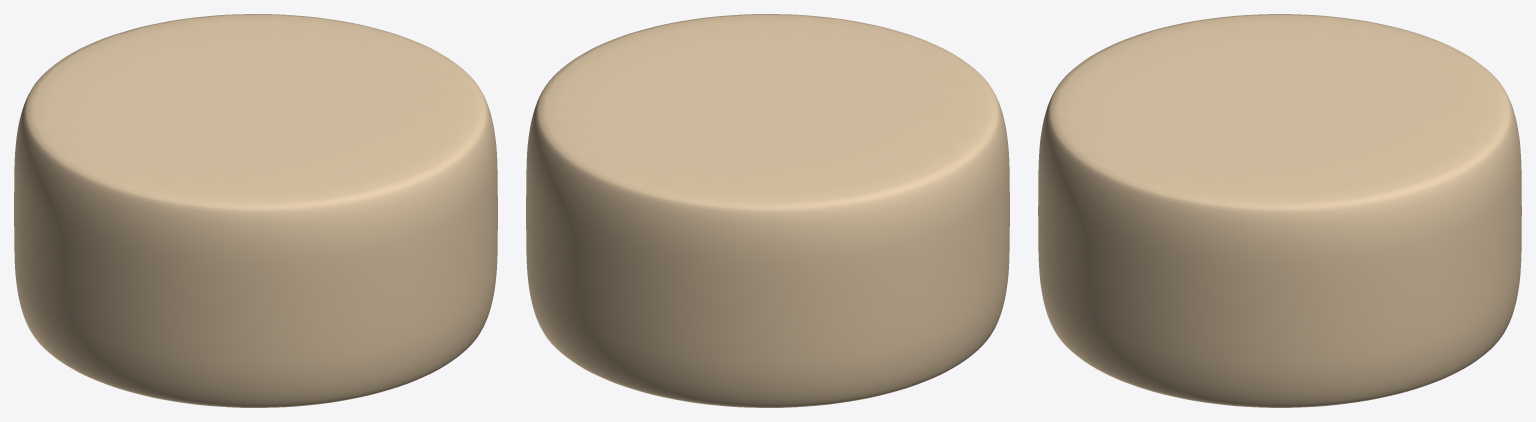
The model's file is CakeBigLayerCream.glb.
3 renders of one model, left to right at view 1: azimuth 30°, elevation 25°; view 2: azimuth 150°, elevation 25°; view 3: azimuth 270°, elevation 25°, orthographic.
Parts seen in each view (by area): view 1: Cylinder.010; view 2: Cylinder.010; view 3: Cylinder.010.
Boxes of the visible parts, box(x1,y1,x2,y2) form: Cylinder.010: box(14, 14, 497, 407); Cylinder.010: box(526, 14, 1009, 407); Cylinder.010: box(1038, 14, 1521, 407).
Size of the model in its own units: 1.99 by 0.9471 by 1.99.
